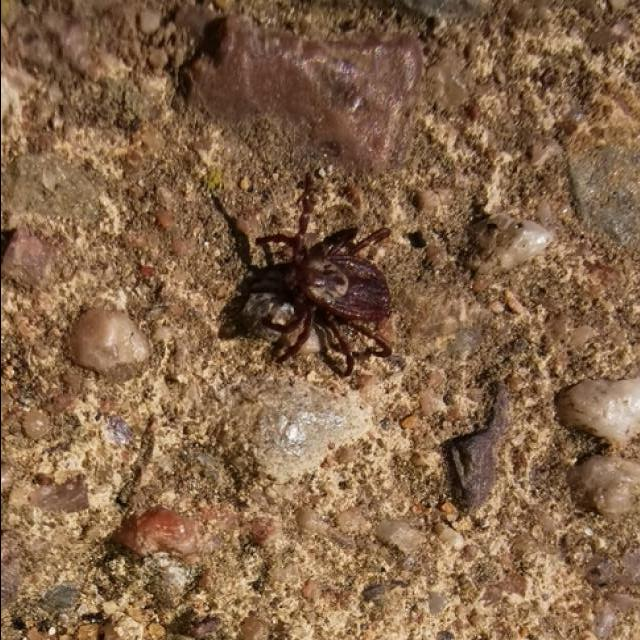Dermacentor Reticulatus-F: (255, 193, 391, 378)
